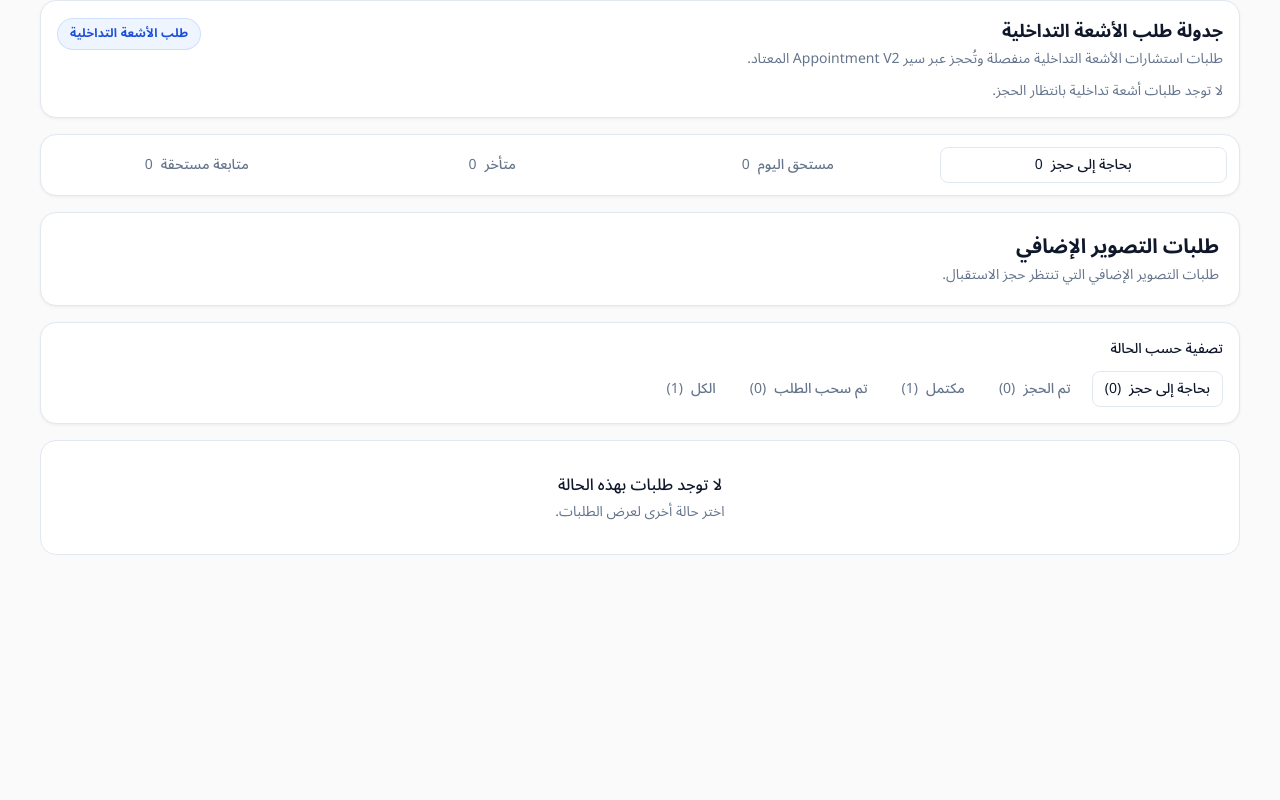
it: Recall Requests metadata › localizes the completed-request email notification card and resend confirmation in Arabic
This screenshot has width=1280, height=800.
Click the button "مكتمل (1)" at (933, 390), box [889, 372, 978, 408]
(page scrolled)
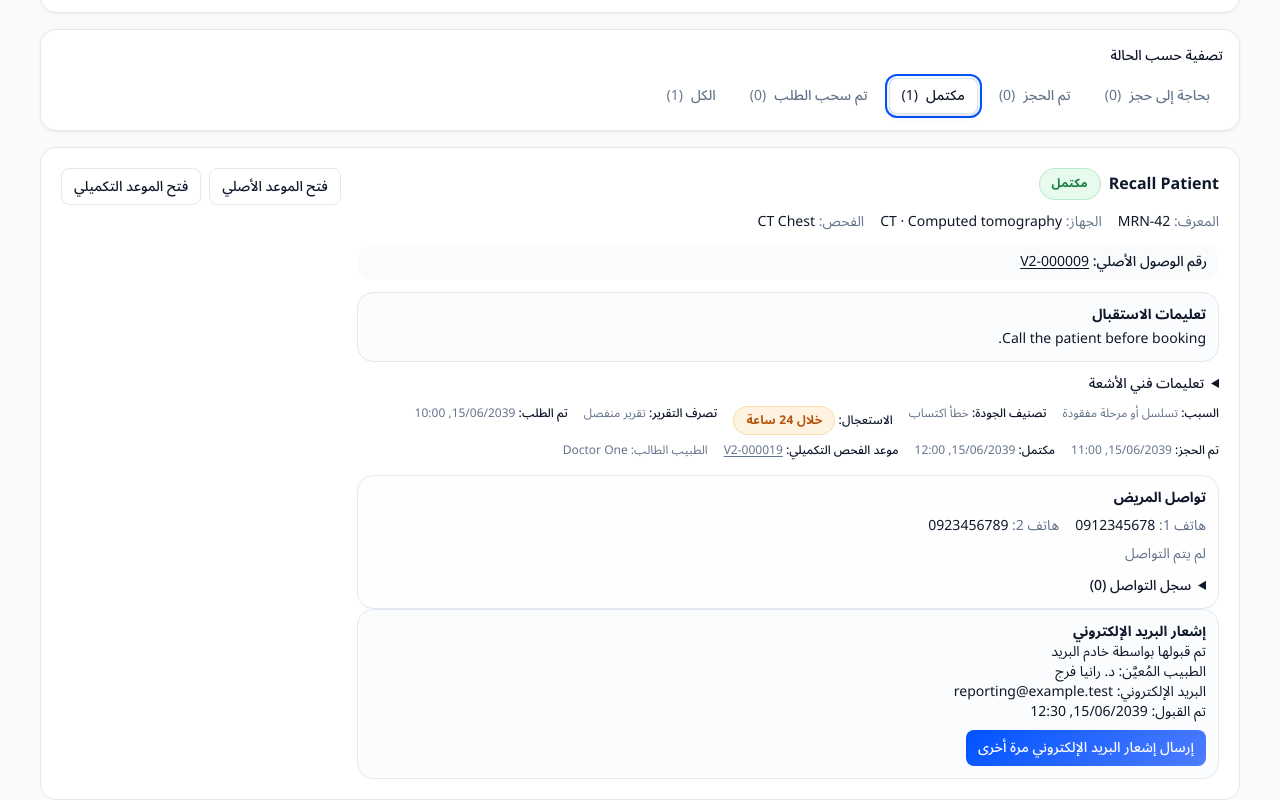
Now the text "إشعار البريد الإلكتروني" is shown, box [1073, 617, 1206, 646]
Now the text "تم قبولها بواسطة خادم البريد" is shown, box [1051, 637, 1206, 666]
Now the text "الطبيب المُعيَّن: د. رانيا فرج" is shown, box [1055, 657, 1206, 686]
Click the button "إرسال إشعار البريد الإلكتروني مرة أخرى" at (1086, 748), box [966, 730, 1206, 766]
(page scrolled)
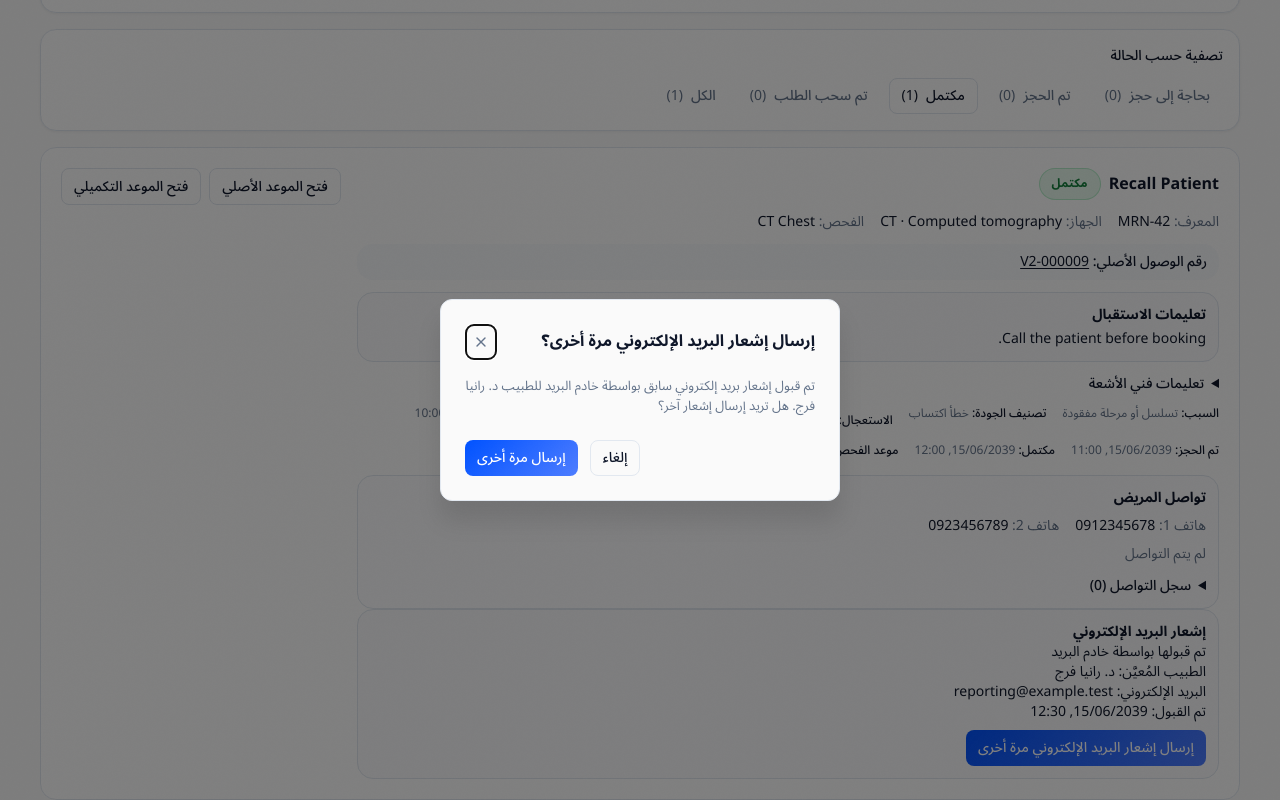
Now the heading "إرسال إشعار البريد الإلكتروني مرة أخرى؟" is shown, box [497, 329, 815, 354]
